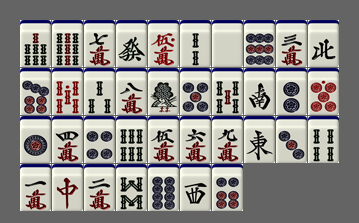0m: (148, 20, 179, 67)
0p: (308, 68, 339, 115)
0s: (52, 68, 83, 115)
1m: (20, 164, 51, 211)
1p: (20, 116, 51, 163)
1s: (148, 68, 179, 115)
1z: (244, 116, 275, 163)
2m: (84, 164, 115, 211)
2p: (276, 68, 307, 115)
2s: (180, 20, 211, 67)
2z: (244, 68, 275, 115)
3m: (276, 20, 307, 67)
3p: (276, 116, 307, 163)
3s: (84, 68, 115, 115)
3z: (180, 164, 211, 211)
4m: (52, 116, 83, 163)
4p: (84, 116, 115, 163)
4s: (308, 116, 339, 163)
4z: (308, 20, 339, 67)
5m: (148, 116, 179, 163)
5p: (180, 68, 211, 115)
5s: (212, 68, 243, 115)
5z: (212, 20, 243, 67)
6m: (180, 116, 211, 163)
6p: (212, 164, 243, 211)
6s: (116, 116, 147, 163)
6z: (116, 20, 147, 67)
7m: (84, 20, 115, 67)
7p: (20, 68, 51, 115)
7s: (20, 20, 51, 67)
7z: (52, 164, 83, 211)
8m: (116, 68, 147, 115)
8p: (148, 164, 179, 211)
8s: (116, 164, 147, 211)
9m: (212, 116, 243, 163)
9p: (244, 20, 275, 67)
9s: (52, 20, 83, 67)
